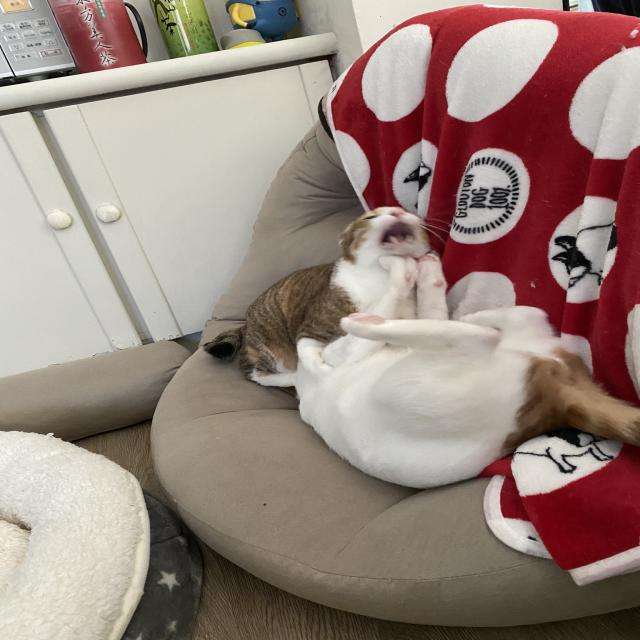cat1: (274, 293, 618, 489)
cat2: (204, 202, 427, 386)
